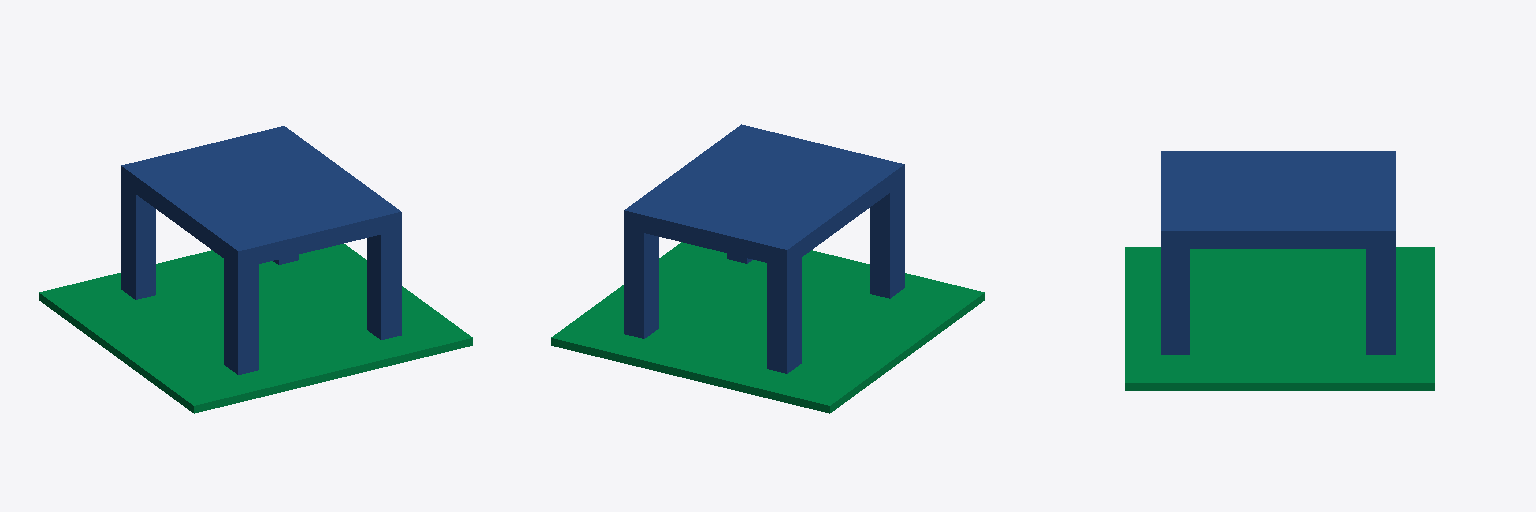
The model's file is table.obj.
3 renders of one model, left to right at view 1: azimuth 30°, elevation 25°; view 2: azimuth 150°, elevation 25°; view 3: azimuth 270°, elevation 25°, orthographic.
Bounding box in the file's own units: 8.83 × 4.05 × 8.49.